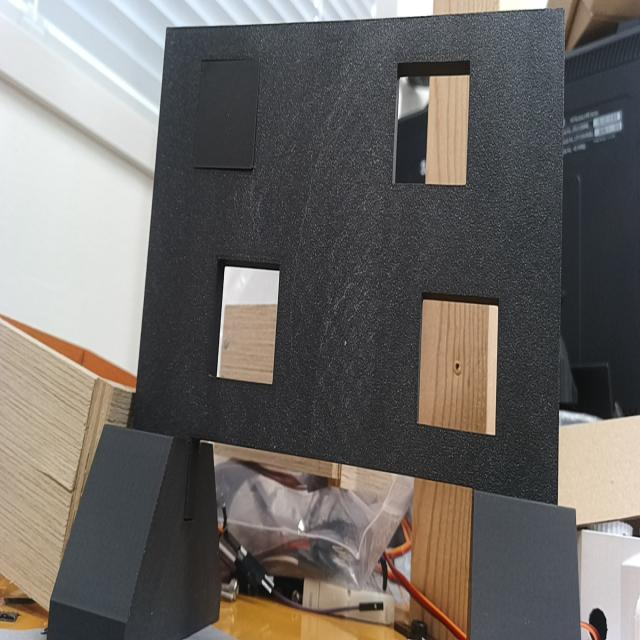Obstacle: (416, 292, 499, 436), (392, 60, 472, 187), (210, 257, 280, 384)
Wall: (136, 11, 564, 503)
